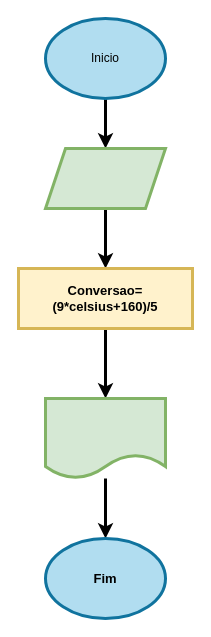
The diagram is 211 pixels wide and 637 high, and some of its shapes have lost their labels. Each missing label, with the box of its shape:
Celsius: (44, 146, 166, 210)
Conversao: (44, 396, 166, 480)
